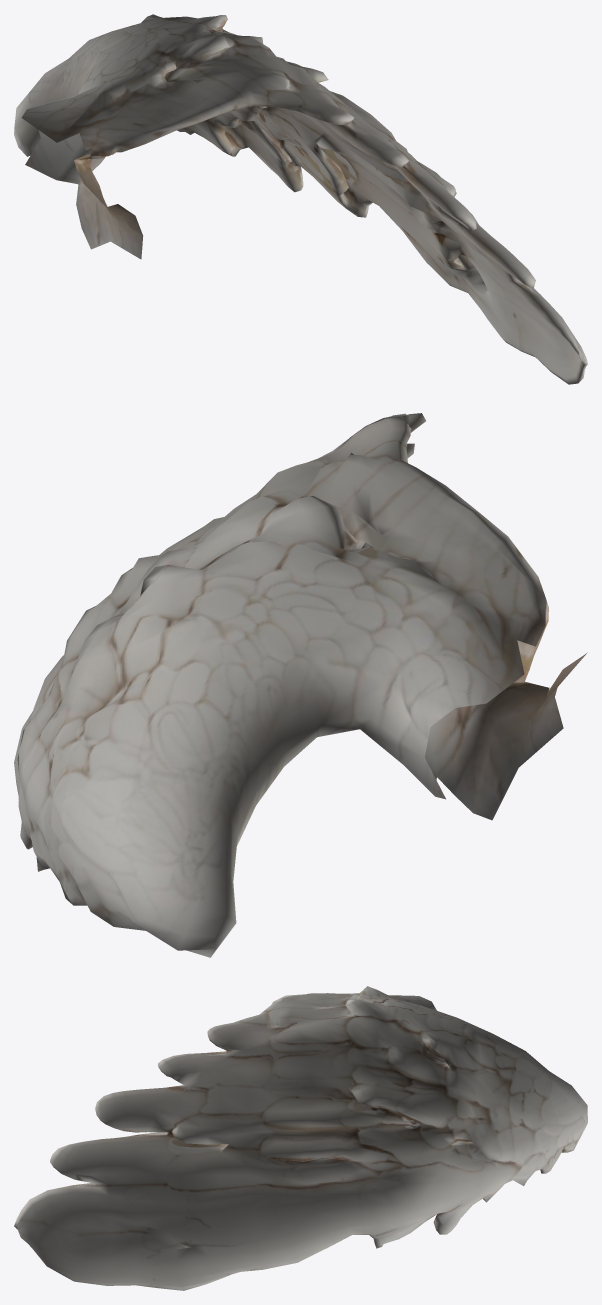
The model's file is RightWing.obj.
3 views of the same model, one above another, from view 1: azimuth 30°, elevation 25°; view 2: azimuth 150°, elevation 25°; view 3: azimuth 270°, elevation 25° (orthographic). The views are drawn at different scales.
Visible parts, largest first — view 1: Object001; view 2: Object001; view 3: Object001.
Boxes of the visible parts, x1,y1,x2,y2 form: Object001: [14, 14, 587, 384]; Object001: [14, 413, 587, 957]; Object001: [14, 986, 587, 1290].
Bounding box in the file's own units: 69.71 × 51.71 × 123.
